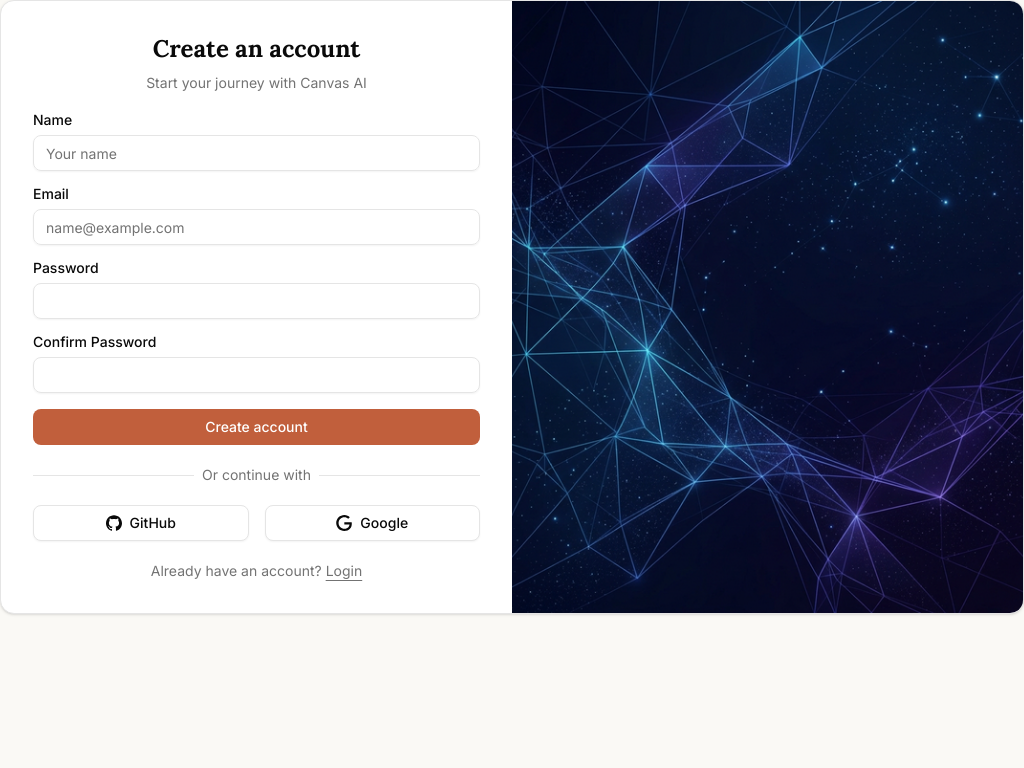
Test case: SignupForm › shows error for weak password
Type "Test User" into the field labelled "Name" at point(256, 153), box left=33, top=135, right=480, bottom=171
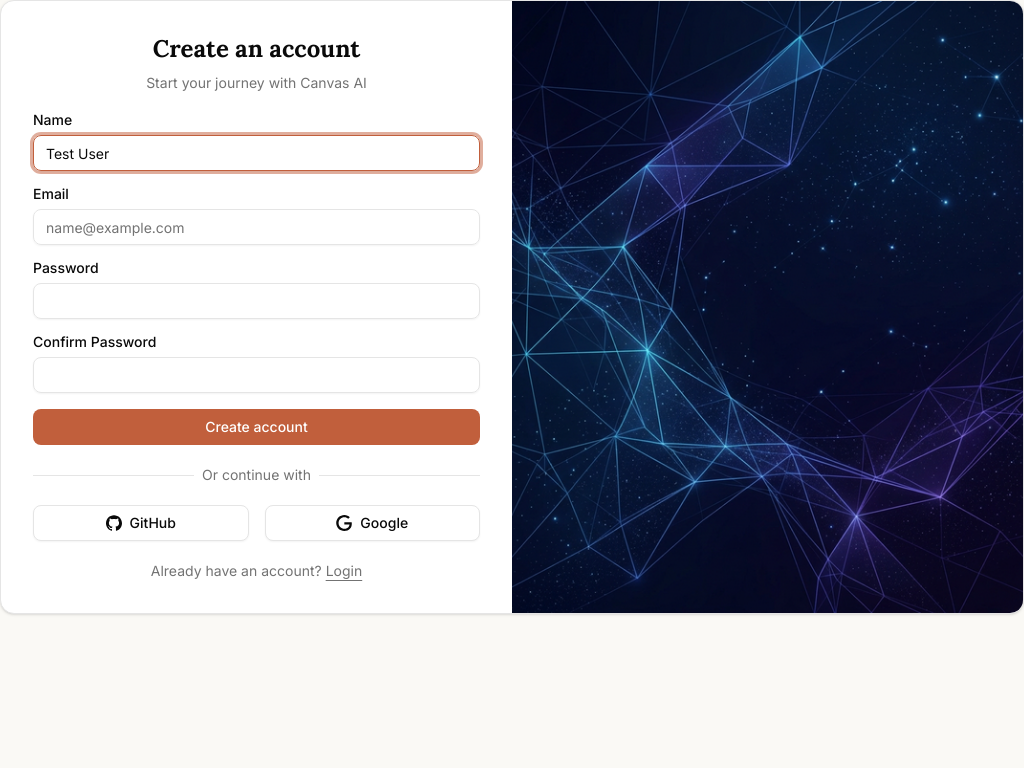
Type "test@example.com" into the field labelled "Email" at point(256, 227), box left=33, top=209, right=480, bottom=245
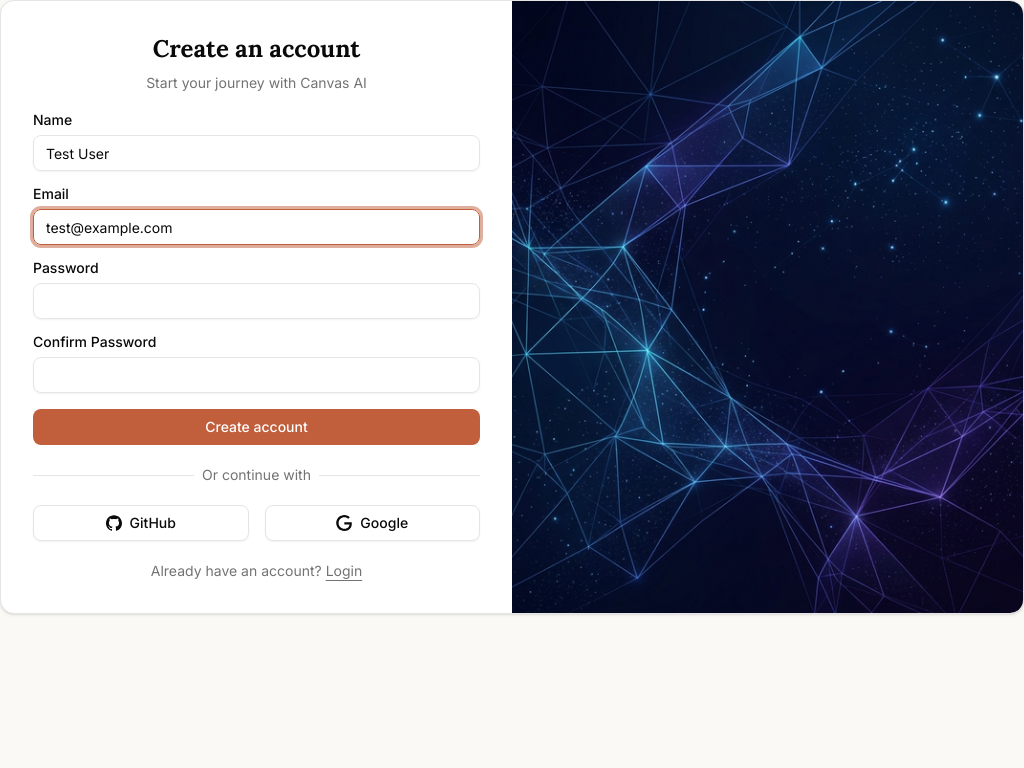
Password meets length but misses uppercase/special — Zod catches the first failing rule
Type "nouppercase1!" into the password field labelled "Password" at point(256, 301), box left=33, top=283, right=480, bottom=319
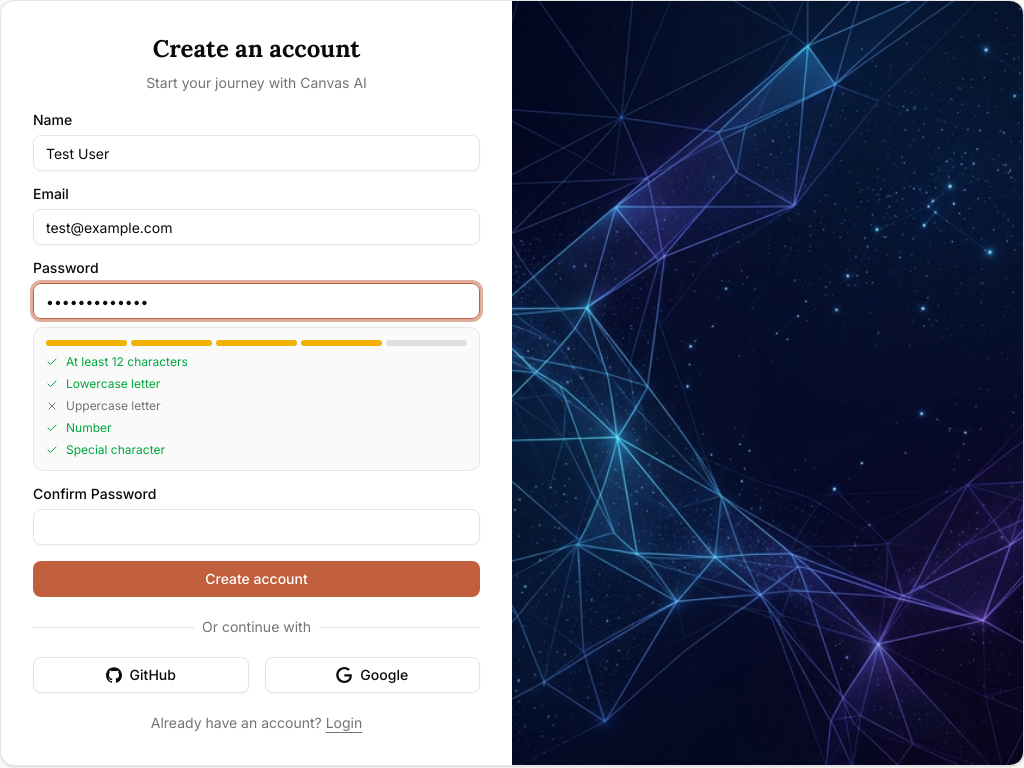
Type "nouppercase1!" into the password field labelled "Confirm Password" at point(256, 527), box left=33, top=509, right=480, bottom=545
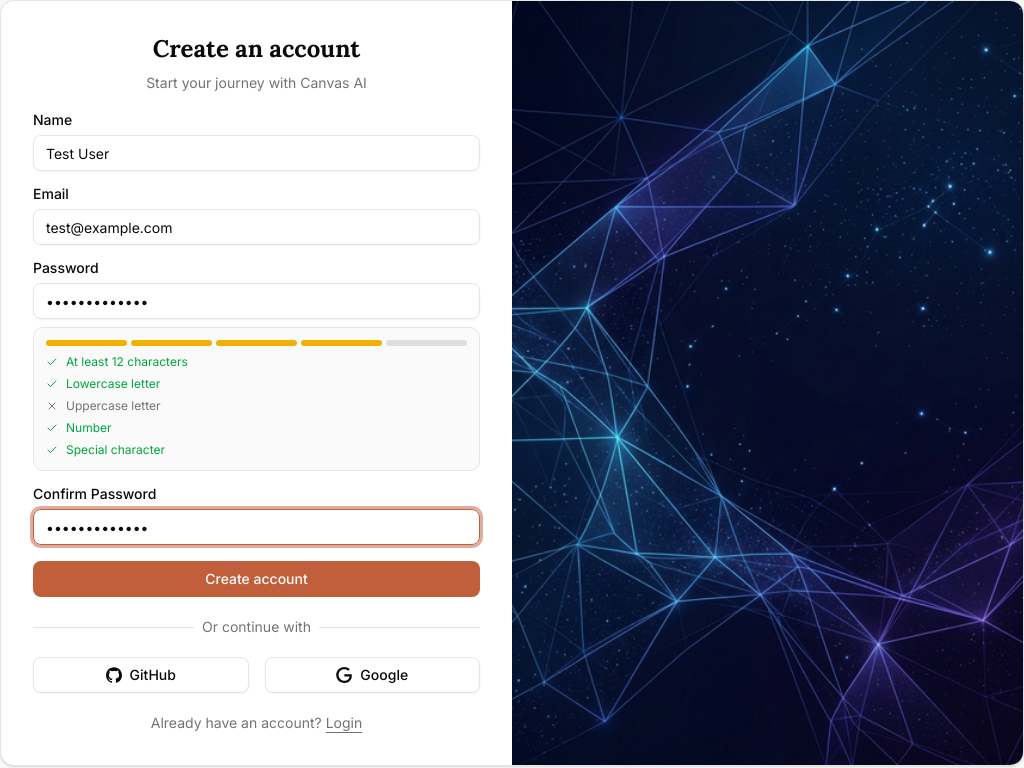
Click the button "Create account" at point(256, 579), box left=33, top=561, right=480, bottom=597
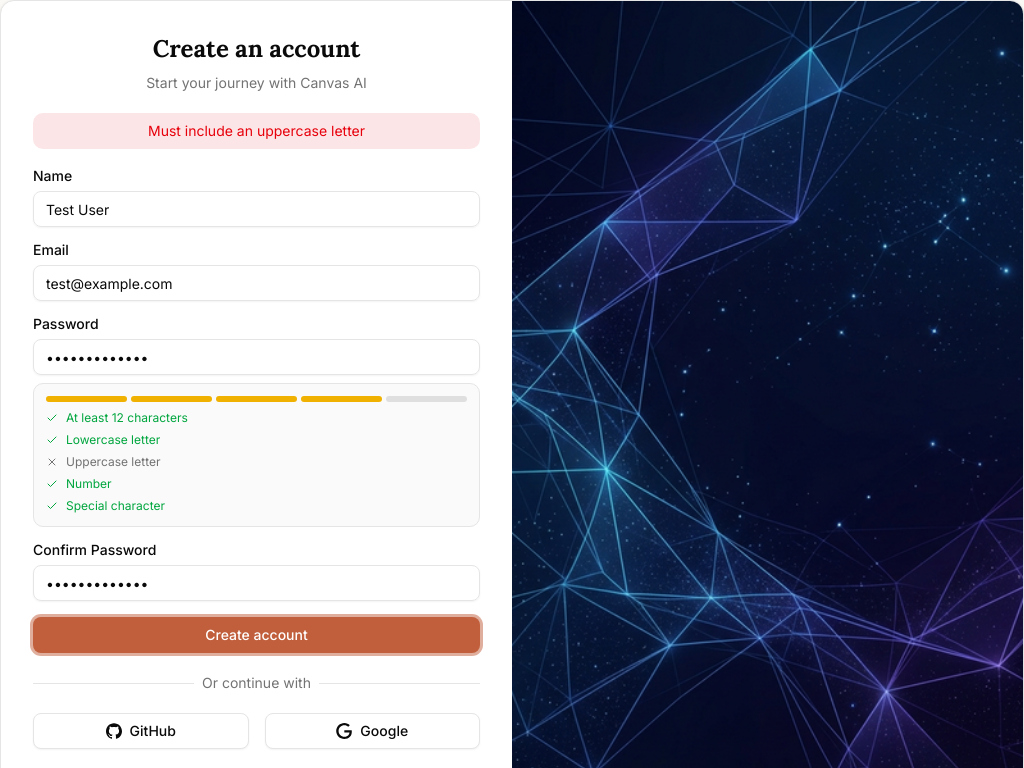
Now the text "Must include an uppercase letter" is shown, box left=33, top=113, right=480, bottom=149
